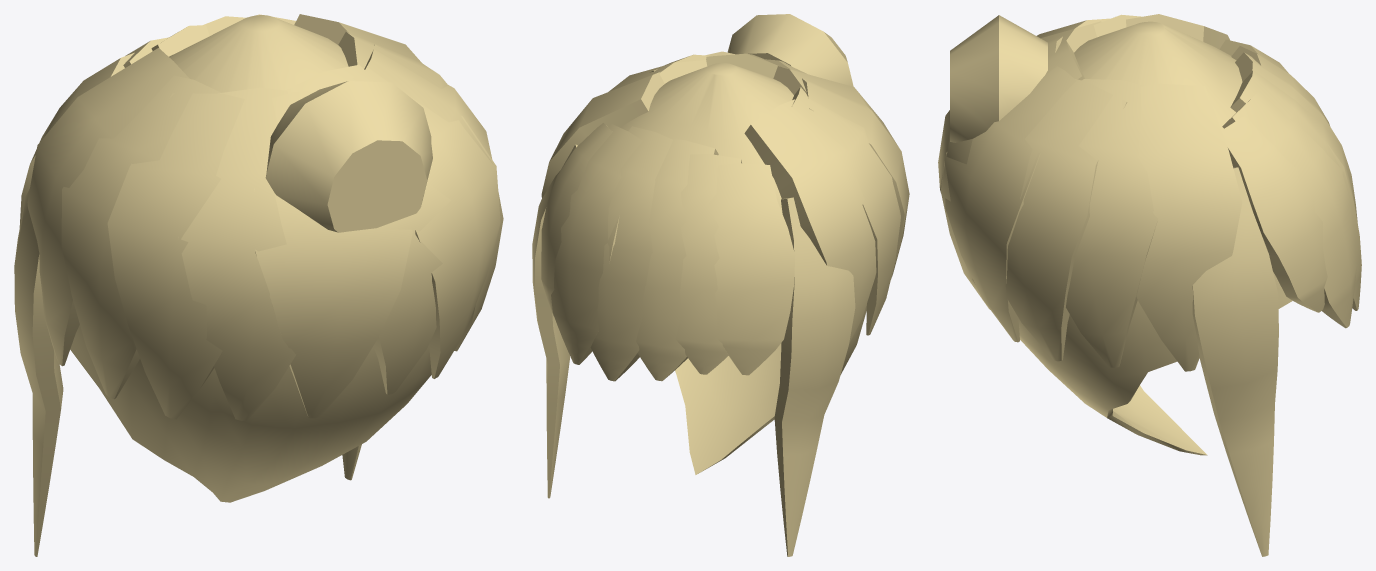
Rendered from hair_5.fbx.
3 views of the same model, side by side, from view 1: azimuth 30°, elevation 25°; view 2: azimuth 150°, elevation 25°; view 3: azimuth 270°, elevation 25° (orthographic). The views are drawn at different scales.
Visible parts, largest first — view 1: Hair; view 2: Hair; view 3: Hair.
Boxes of the visible parts, x1,y1,x2,y2 form: Hair: (14, 14, 503, 556); Hair: (532, 14, 909, 556); Hair: (938, 14, 1361, 556).
Size of the model in its own units: 0.2425 by 0.3164 by 0.2593.
